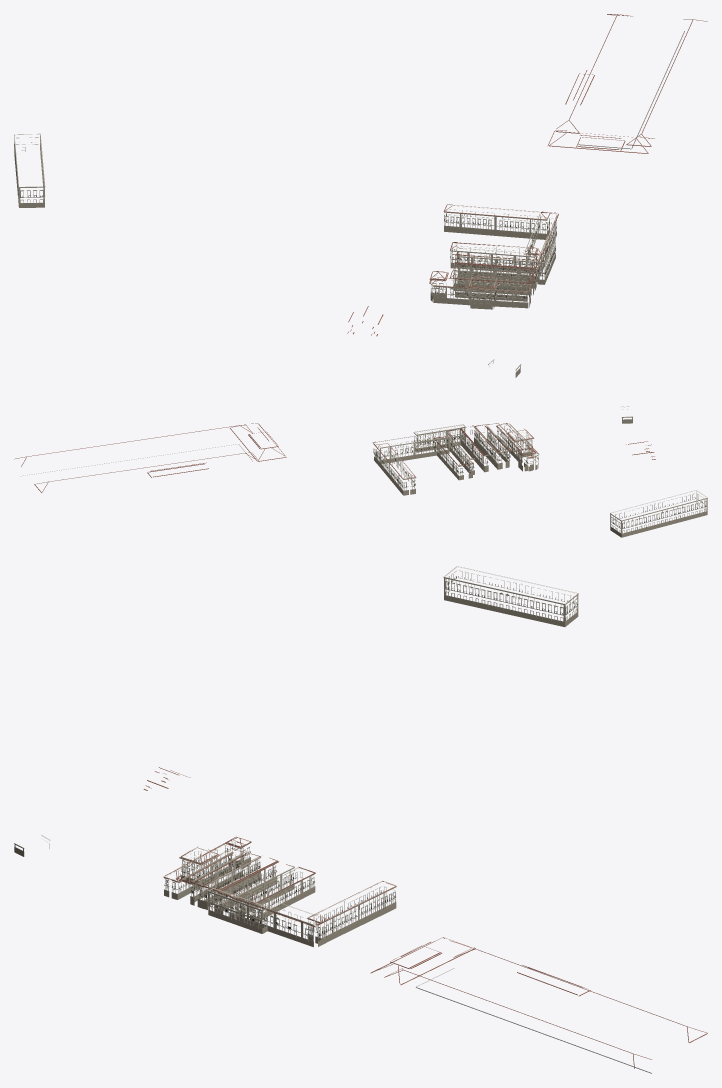
3 views of the same model, one above another, from view 1: azimuth 30°, elevation 25°; view 2: azimuth 150°, elevation 25°; view 3: azimuth 270°, elevation 25° (orthographic). The views are drawn at different scales.
Visible parts, largest first — view 1: detail; view 2: detail; view 3: detail.
Part boxes in pixels (left/top/right/bottom): detail: left=14, top=14, right=707, bottom=377; detail: left=14, top=406, right=707, bottom=537; detail: left=14, top=566, right=707, bottom=1073.
Size of the model in its own units: 438 by 63.07 by 311.
